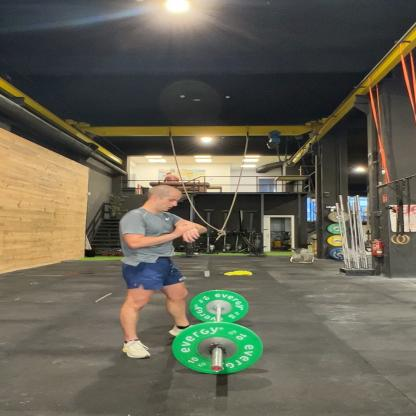barbell: (85, 287, 261, 358)
